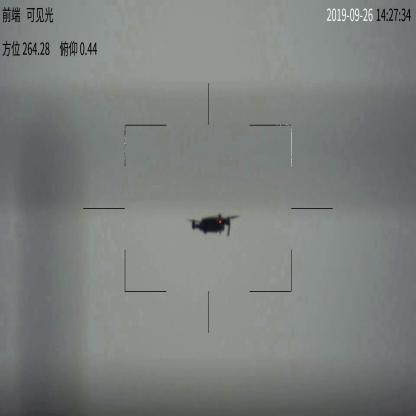uav: (186, 210, 241, 243)
